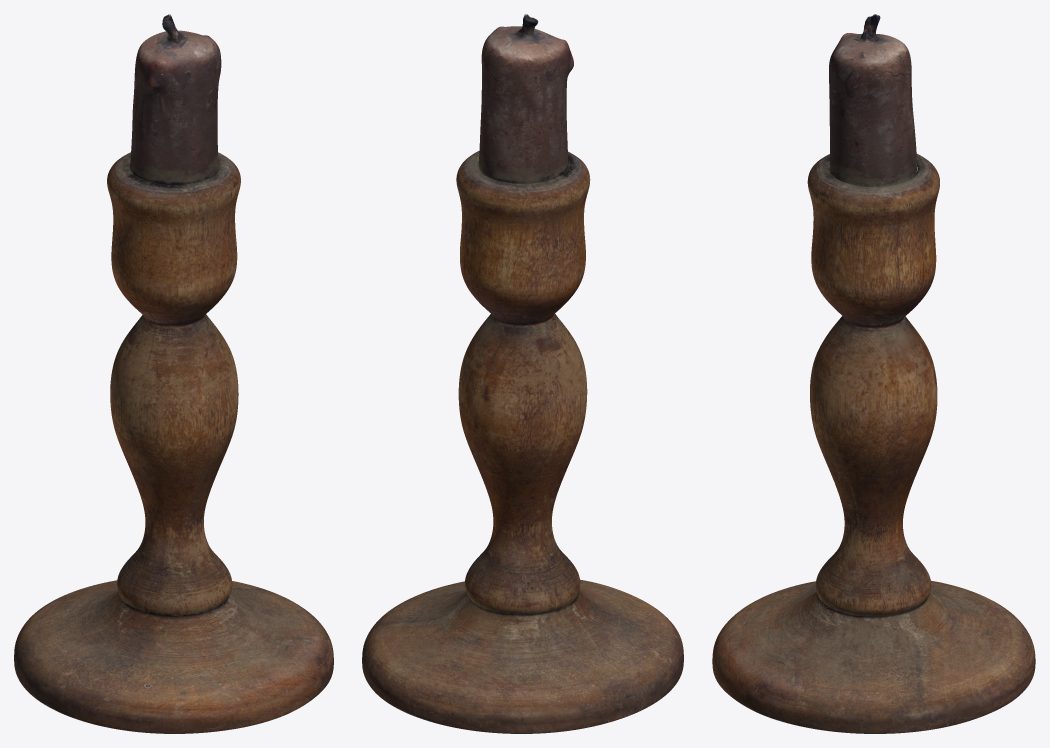
File: ph_wooden_candlestick.glb
3 views of the same model, side by side, from view 1: azimuth 30°, elevation 25°; view 2: azimuth 150°, elevation 25°; view 3: azimuth 270°, elevation 25° (orthographic).
Visible parts, largest first — view 1: ph_wooden_candlestick; view 2: ph_wooden_candlestick; view 3: ph_wooden_candlestick.
Boxes of the visible parts, x1,y1,x2,y2 form: ph_wooden_candlestick: (14, 14, 333, 733); ph_wooden_candlestick: (362, 14, 683, 733); ph_wooden_candlestick: (712, 14, 1035, 733).
Size of the model in its own units: 0.0972 by 0.2197 by 0.0987.
1 material, 1 textured.
